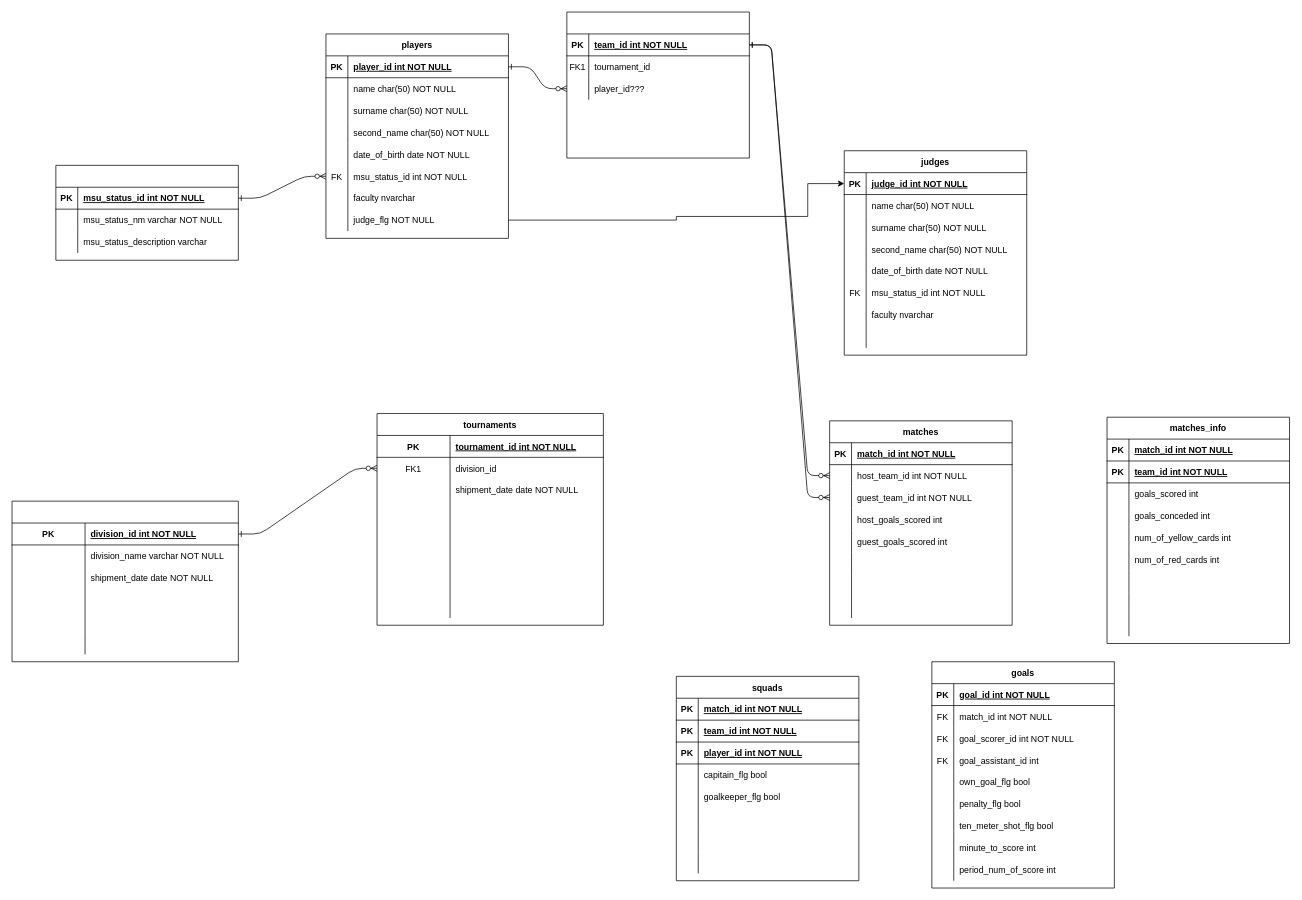
This 1302x900 diagram has some shape labels left out. Each missing label, with the box of its shape:
divisions: (11, 500, 238, 662)
msu_statuses (1 курс, и тд): (55, 165, 238, 260)
teams: (566, 11, 749, 158)
